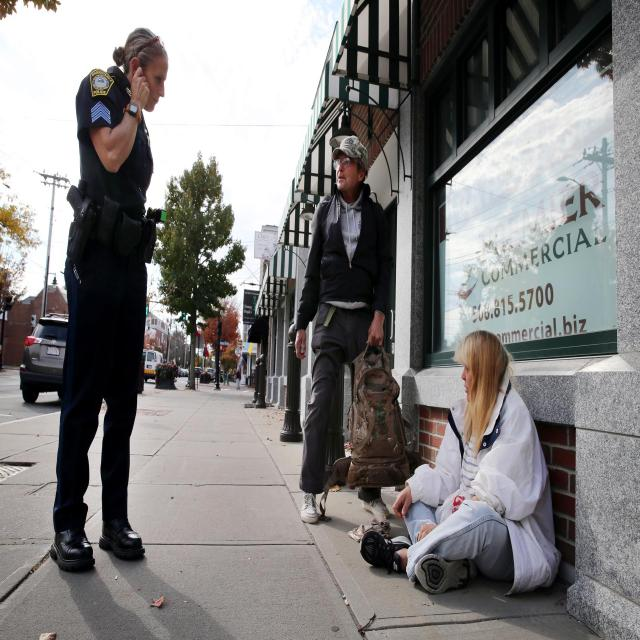Car: (14, 288, 88, 397), (137, 342, 170, 382)
human: (57, 25, 154, 563)
loitering: (376, 312, 586, 586), (296, 123, 411, 534)
